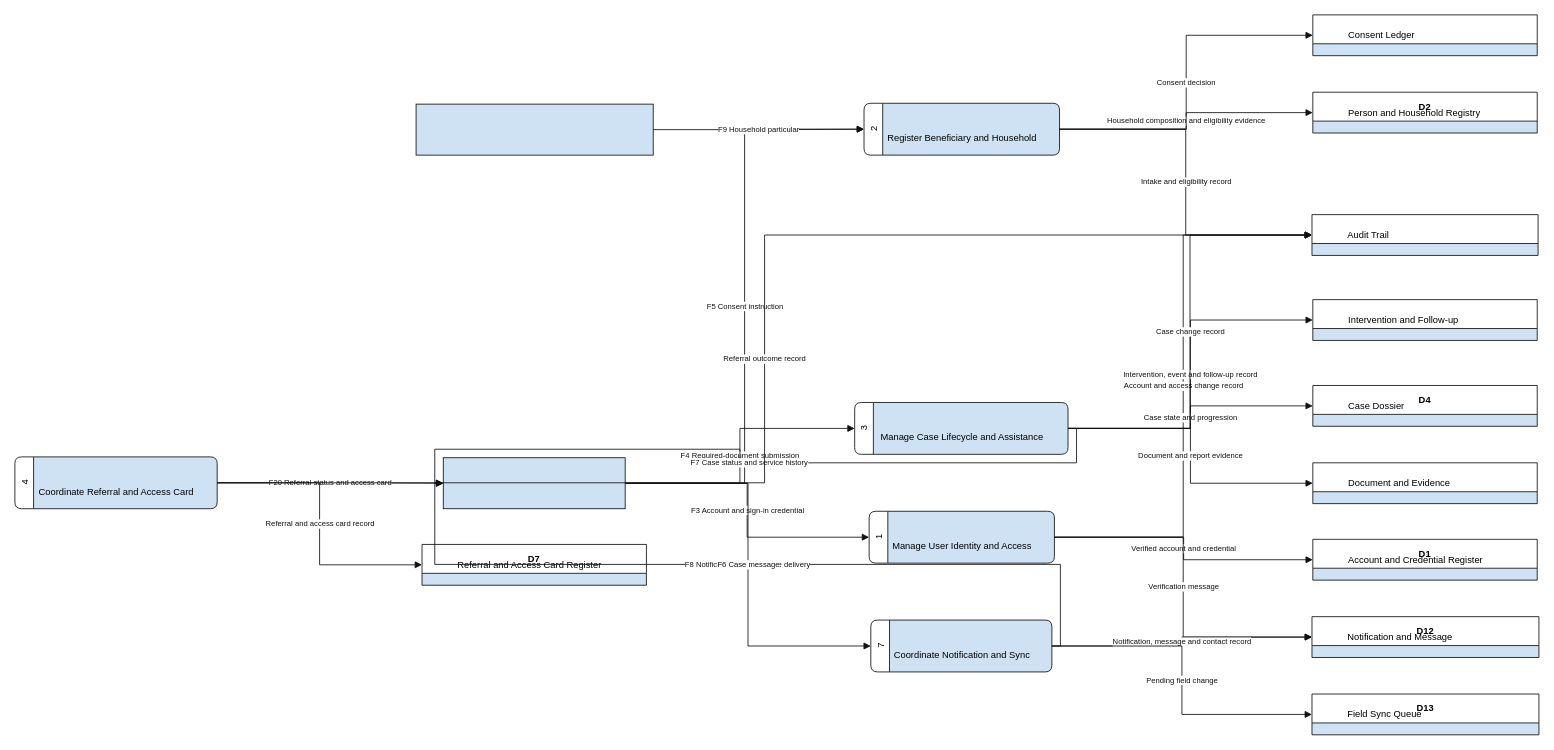
Image size: 1554x750. Some labels were removed from this diagram. Here are the shapes that lost their labels. From the top down, the box of each, then its label:
(1312, 14, 1537, 56): D3
(415, 103, 653, 155): E3 Beneficiary / Household
(1311, 214, 1538, 255): D11
(1312, 299, 1537, 340): D5
(442, 457, 625, 509): E2 Registered User
(1312, 462, 1537, 504): D6
